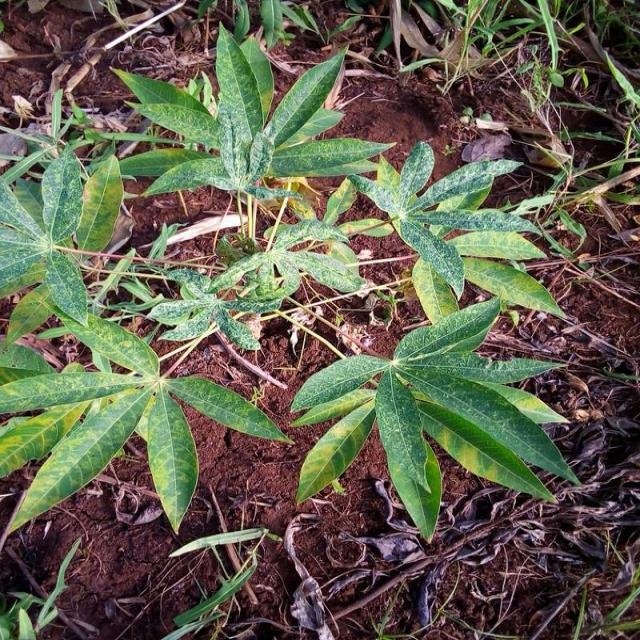cassava leaf: (2, 25, 582, 546), (290, 294, 582, 542)
